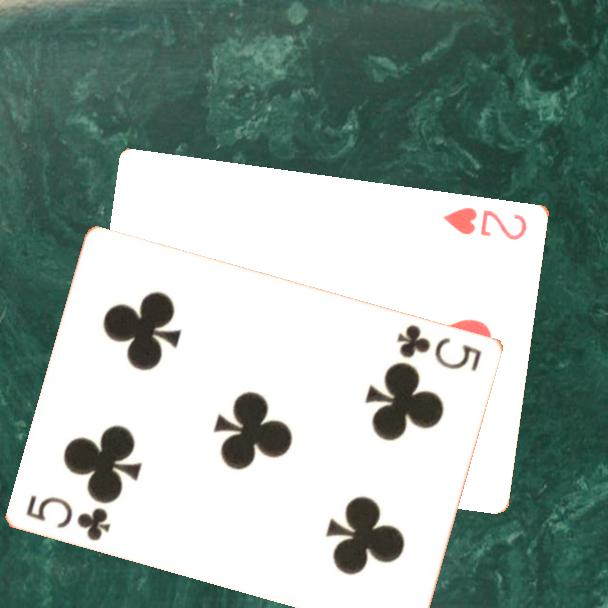c05: (393, 320, 485, 374), (22, 491, 114, 544)
h02: (439, 203, 530, 243)
